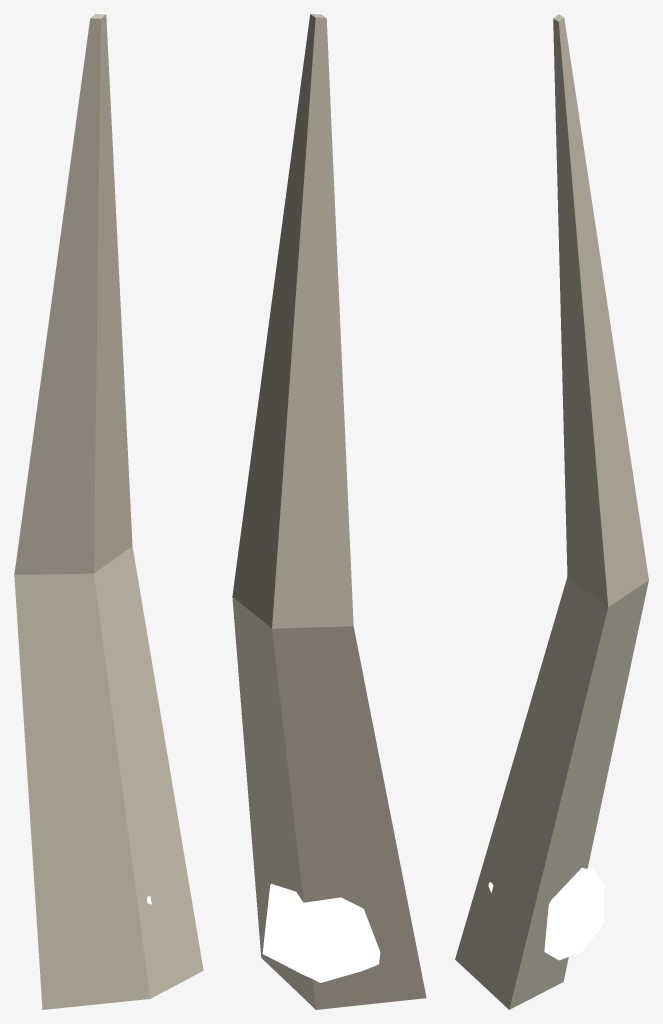
File: long-legs.glb
3 renders of one model, left to right at view 1: azimuth 30°, elevation 25°; view 2: azimuth 150°, elevation 25°; view 3: azimuth 270°, elevation 25°, orthographic. The views are drawn at different scales.
Visible parts, largest first — view 1: long_legs; view 2: long_legs; view 3: long_legs.
Part boxes in pixels (x1,y1,x2,y2): long_legs: (14,14,203,1009); long_legs: (232,14,426,1009); long_legs: (455,14,648,1009).
Bounding box in the file's own units: 0.03 × 0.1721 × 0.0314.
